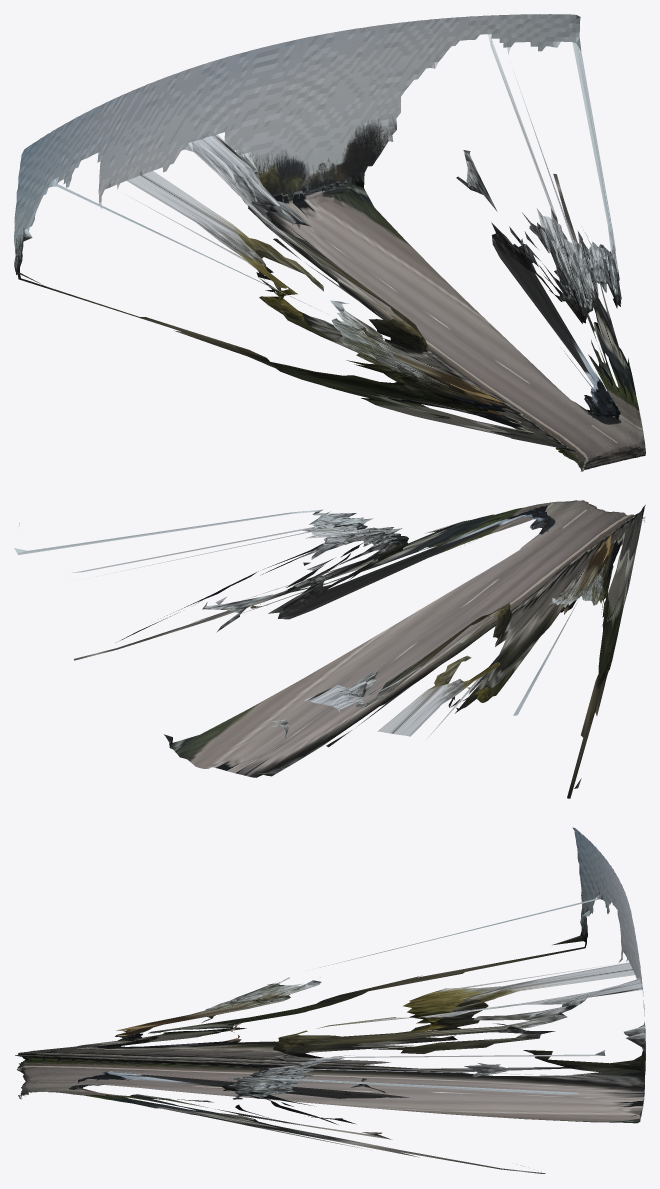
The picture shows the model from 3 angles, top to bottom: view 1: azimuth 30°, elevation 25°; view 2: azimuth 150°, elevation 25°; view 3: azimuth 270°, elevation 25°; orthographic projection. The views are drawn at different scales.
Visible parts, largest first — view 1: defaultobject; view 2: defaultobject; view 3: defaultobject.
Part boxes in pixels (x1,y1,x2,y2): defaultobject: (14,14,645,471); defaultobject: (14,500,645,798); defaultobject: (15,827,645,1173).
Size of the model in its own units: 40.91 by 12.08 by 44.74.
1 material, 1 textured.
